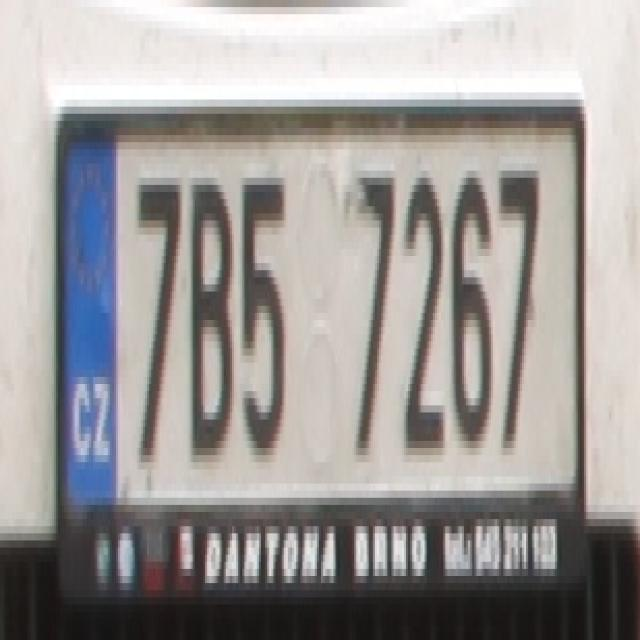2: (400, 171, 445, 448)
5: (238, 178, 286, 441)
6: (449, 178, 493, 441)
7: (133, 164, 180, 455), (497, 163, 543, 441), (348, 163, 391, 441)
B: (188, 178, 232, 455)
